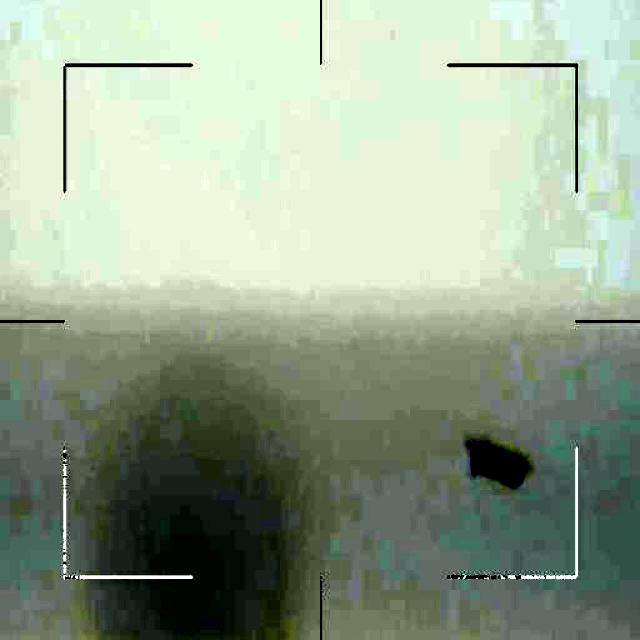bird: (466, 428, 538, 494)
